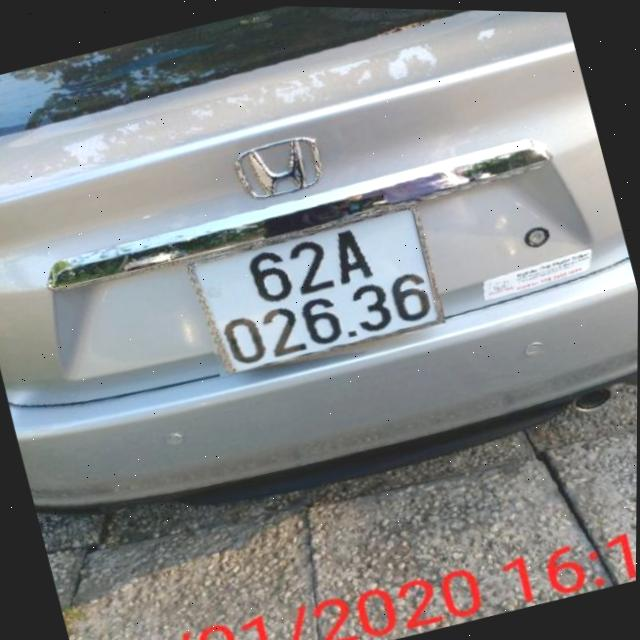car: (0, 0, 640, 601)
plate: (180, 184, 466, 397)
